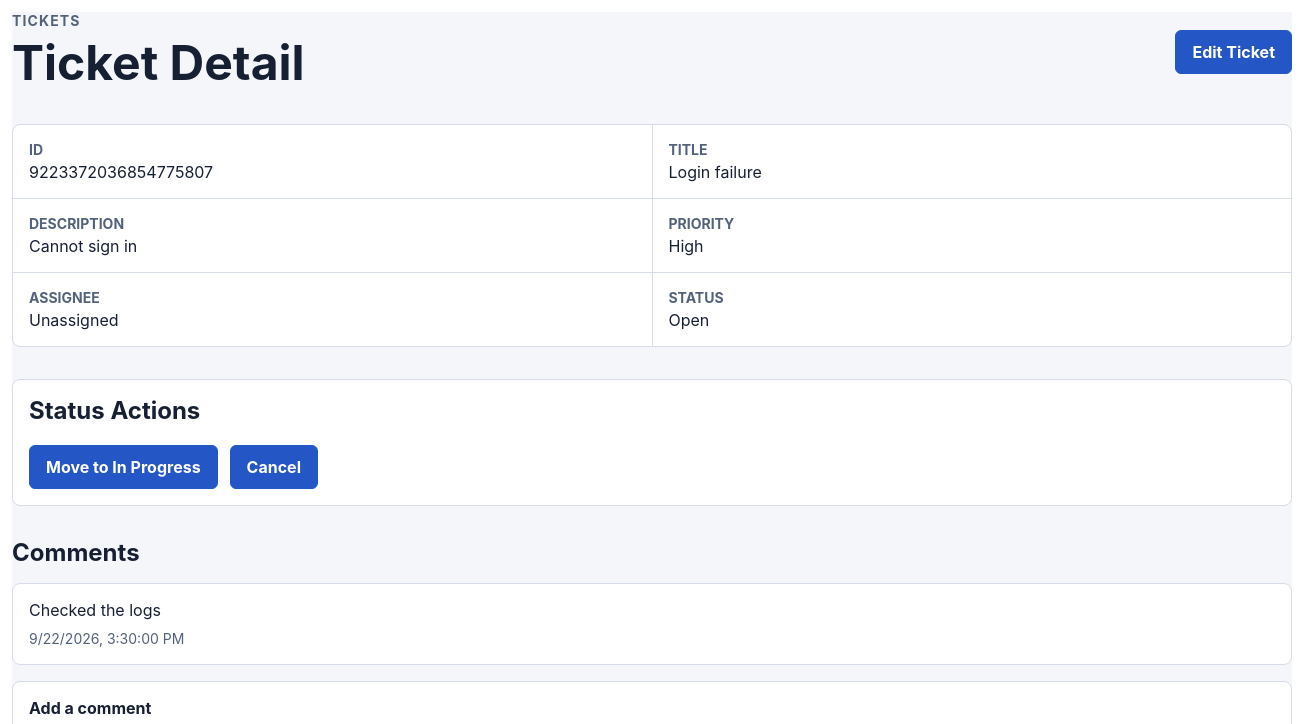
Ticket Detail and mutations › uses dedicated status mutation without optimism and refreshes stale conflicts
Click the button "Move to In Progress".
click(123, 467)  # box [29,445,218,489]
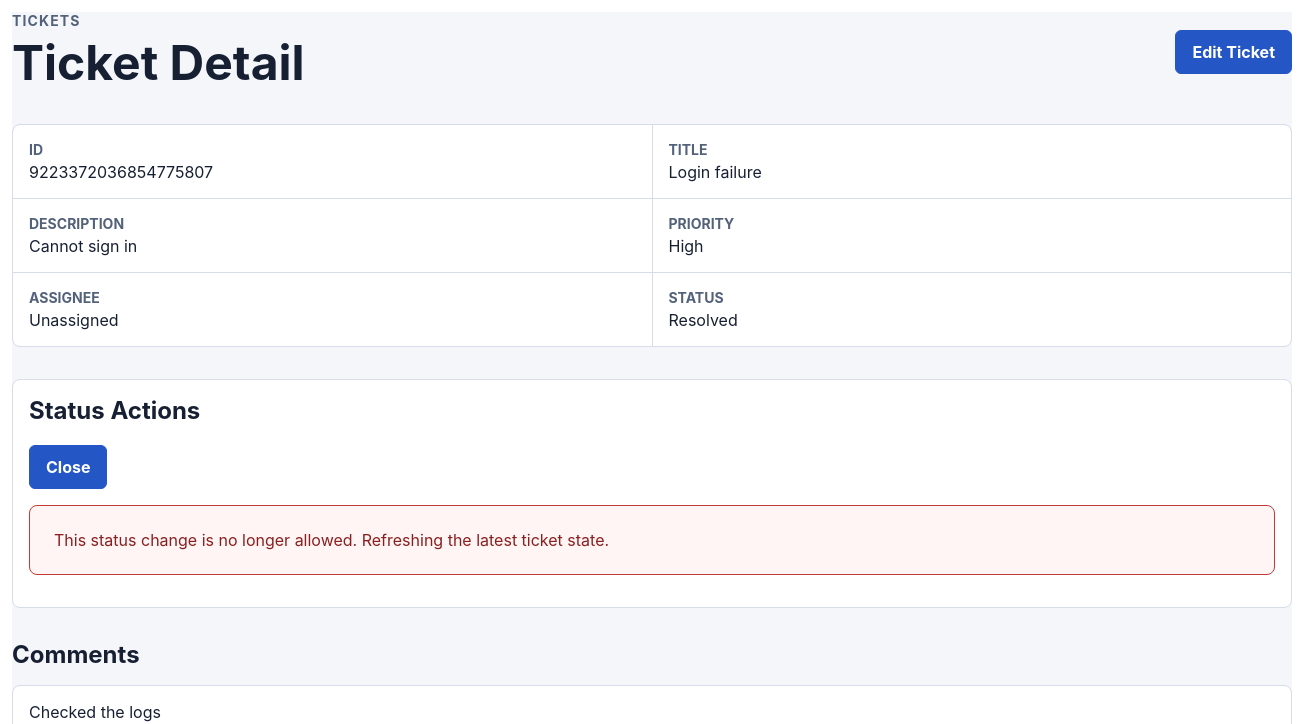
Now the message shows "no longer allowed", box [54,530,609,550]
Now the button "Close" is shown, box [29,445,108,489]
